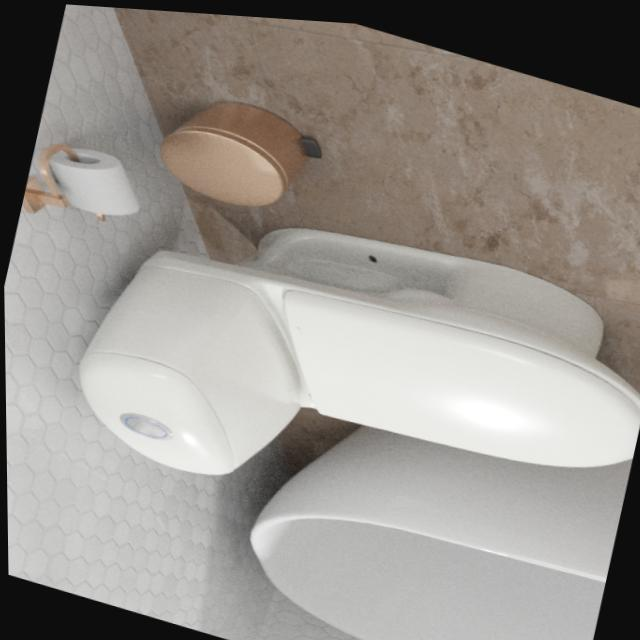toilet: (57, 148, 640, 590)
